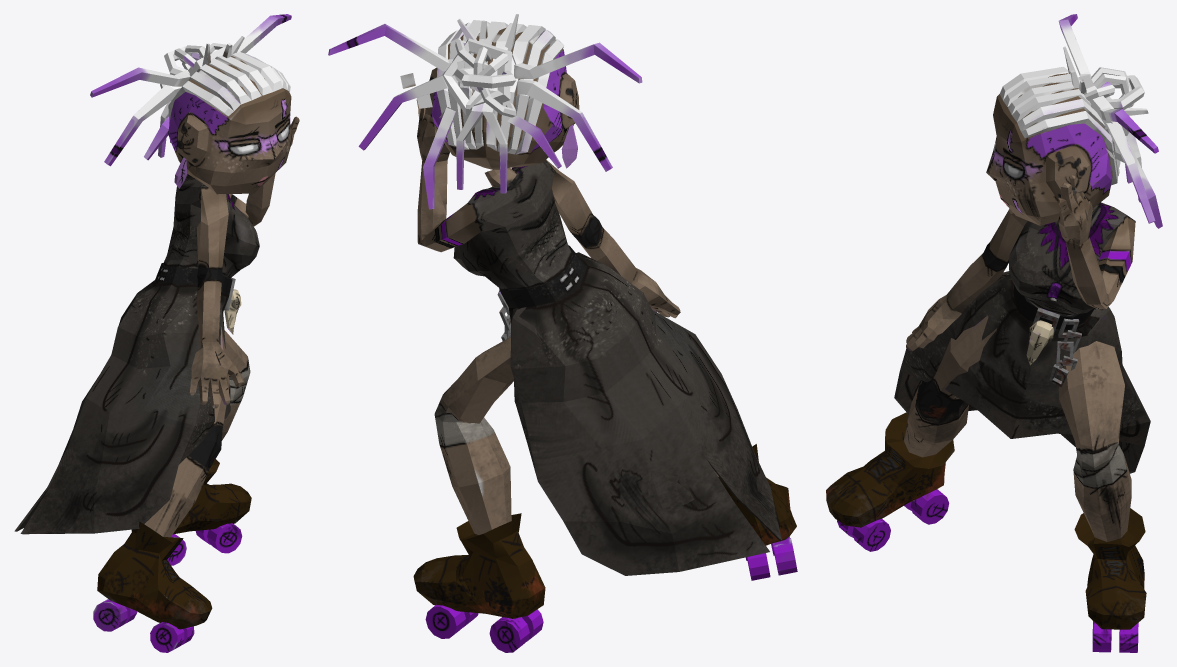
File: bruja_000073.obj
3 views of the same model, side by side, from view 1: azimuth 30°, elevation 25°; view 2: azimuth 150°, elevation 25°; view 3: azimuth 270°, elevation 25° (orthographic). The views are drawn at different scales.
Parts seen in each view (by area): view 1: Bruja_Plane.001; view 2: Bruja_Plane.001; view 3: Bruja_Plane.001.
Boxes of the visible parts, x1,y1,x2,y2 form: Bruja_Plane.001: (14, 14, 299, 652); Bruja_Plane.001: (328, 14, 797, 652); Bruja_Plane.001: (826, 14, 1162, 652).
Size of the model in its own units: 10.16 by 15.4 by 8.02.
